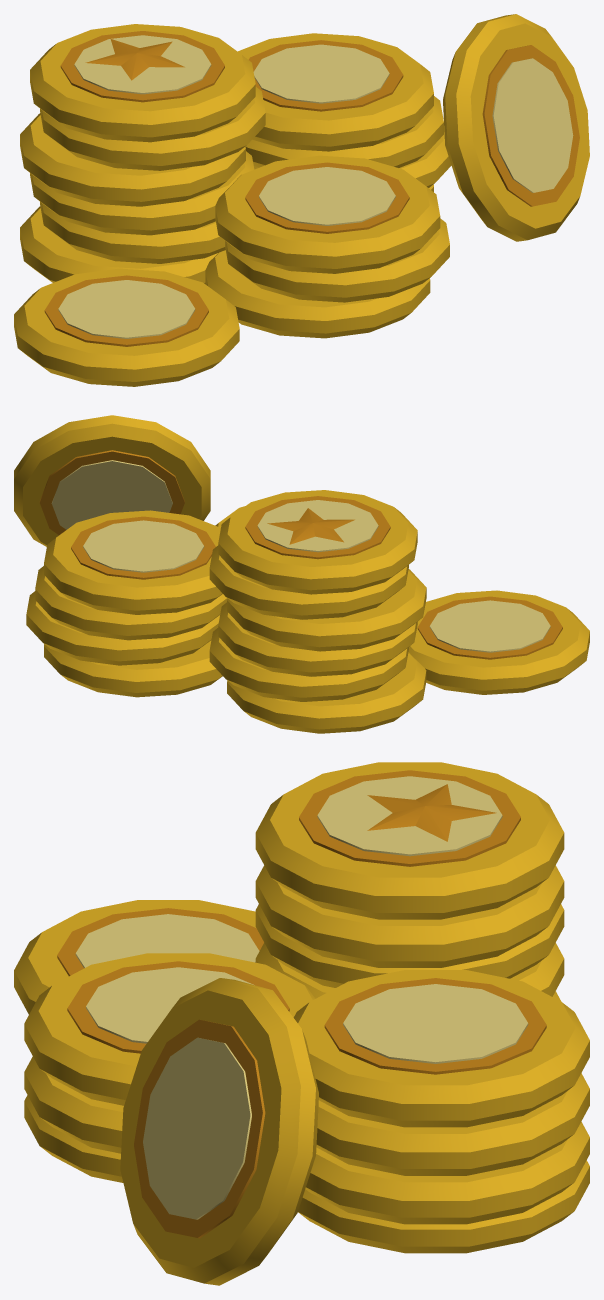
Rendered from p_pile_coins.glb.
3 renders of one model, top to bottom at view 1: azimuth 30°, elevation 25°; view 2: azimuth 150°, elevation 25°; view 3: azimuth 270°, elevation 25°, orthographic. The views are drawn at different scales.
Parts seen in each view (by area): view 1: body; view 2: body; view 3: body.
Part boxes in pixels (left/top/right/bottom): body: left=14, top=14, right=589, bottom=386; body: left=14, top=415, right=589, bottom=733; body: left=14, top=762, right=589, bottom=1285.
Bounding box in the file's own units: 1.81 × 0.5931 × 1.12.
